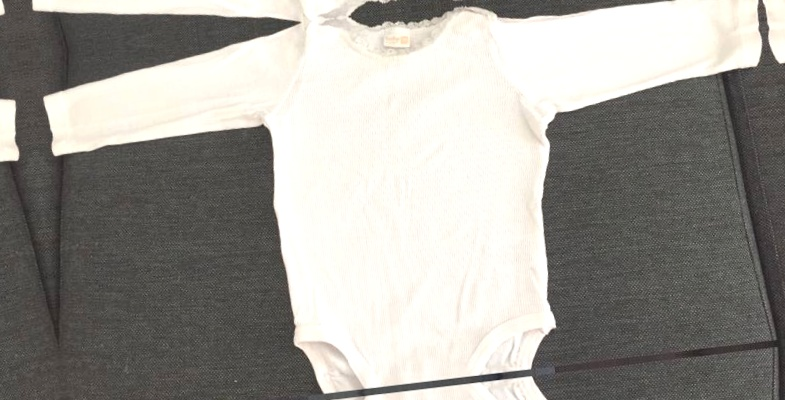Body: (32, 0, 785, 400), (77, 347, 785, 400), (0, 0, 744, 50), (0, 60, 59, 400), (770, 0, 785, 335), (0, 0, 15, 137)
